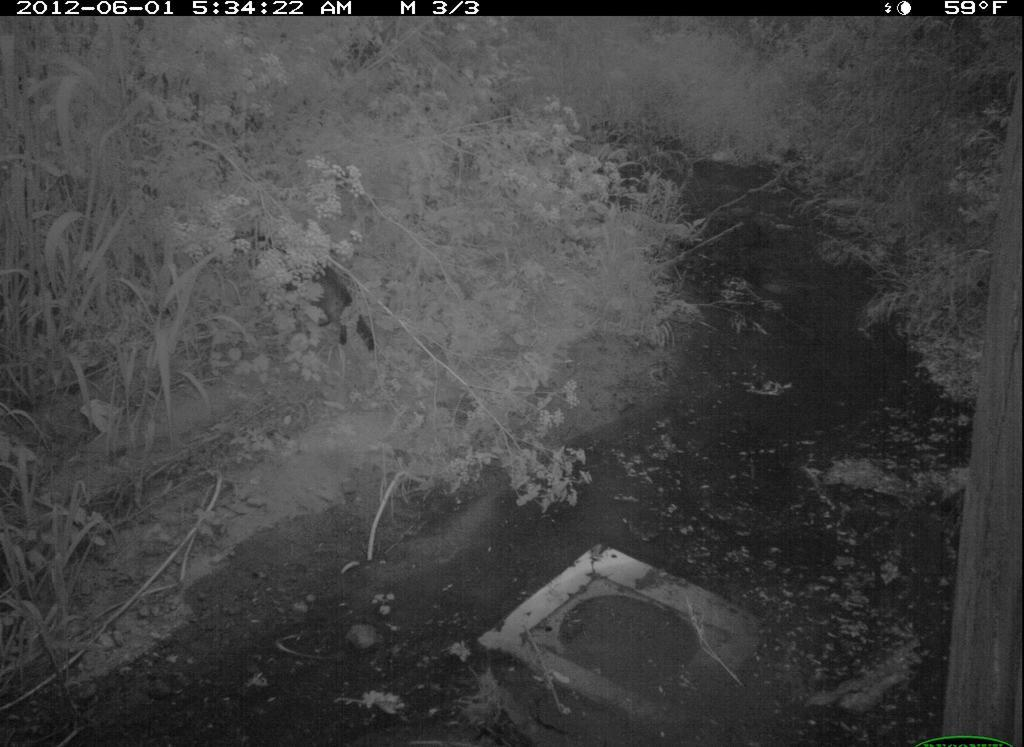cat: (241, 223, 383, 363)
